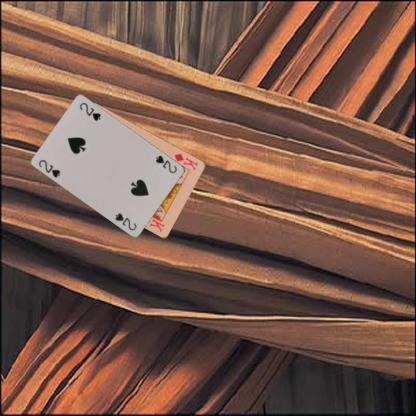2s: (36, 157, 62, 179), (154, 152, 178, 174)
Kd: (172, 150, 200, 172)
